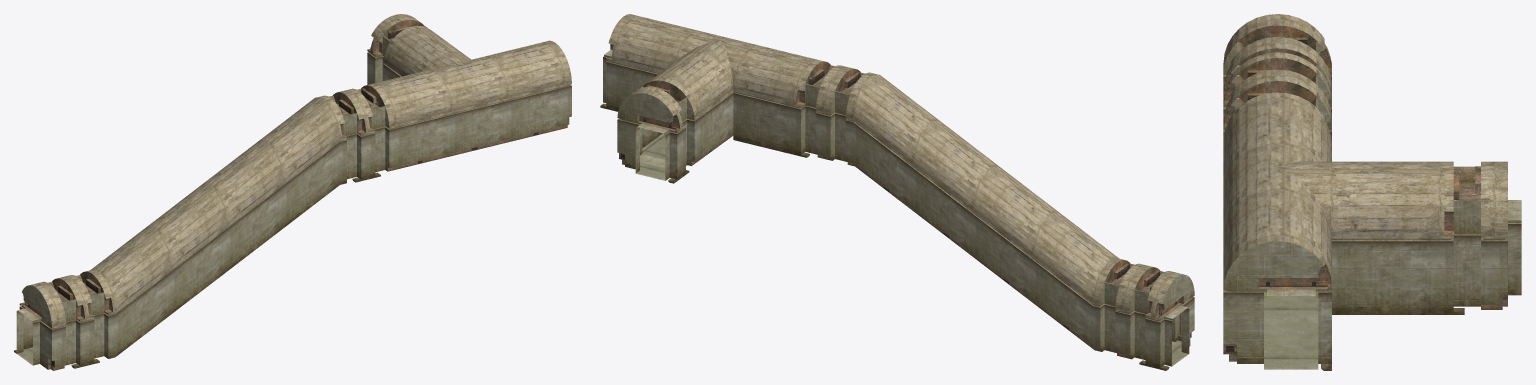
File: poi_all_bunker_allum_mine_r3_hall3_mesh_r3.fbx
3 views of the same model, side by side, from view 1: azimuth 30°, elevation 25°; view 2: azimuth 150°, elevation 25°; view 3: azimuth 270°, elevation 25° (orthographic). The views are drawn at different scales.
Visible parts, largest first — view 1: mesh_node; view 2: mesh_node; view 3: mesh_node.
Part boxes in pixels (x1,y1,x2,y2): mesh_node: [14, 14, 571, 370]; mesh_node: [600, 14, 1194, 370]; mesh_node: [1223, 14, 1521, 370].
Bounding box in the file's own units: 38 × 13.1 × 11.
